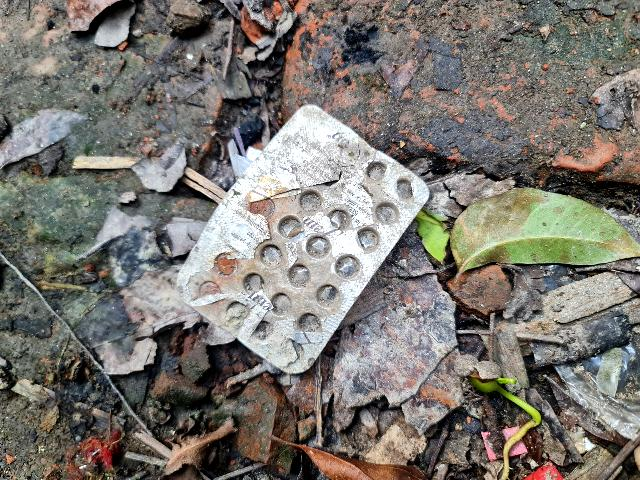medicine: (143, 75, 458, 411)
